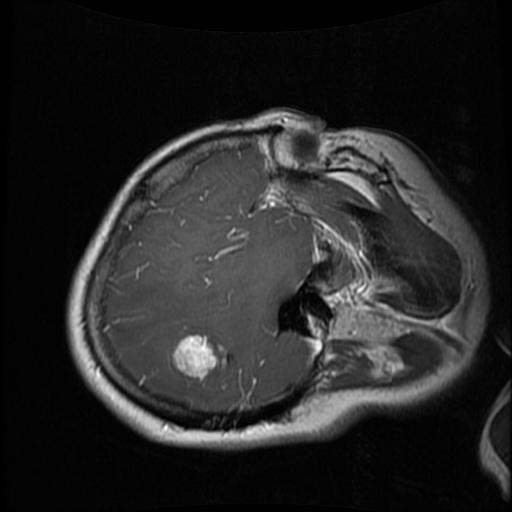glioma: (172, 331, 219, 380)
